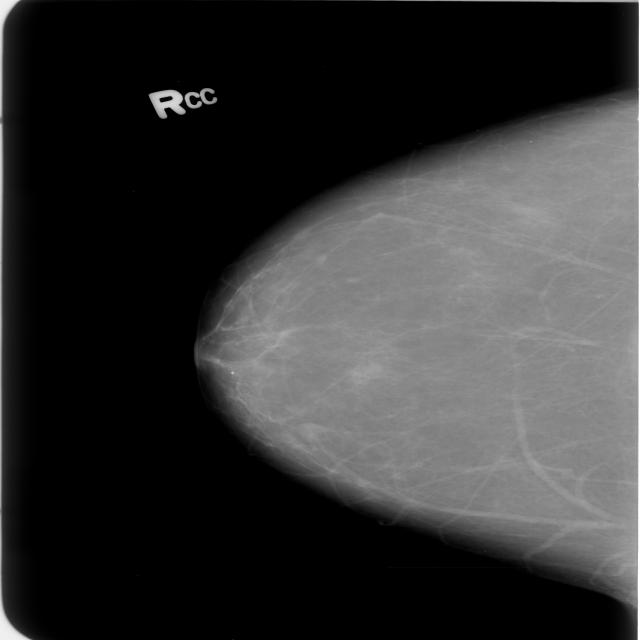normal: (186, 71, 640, 573)
